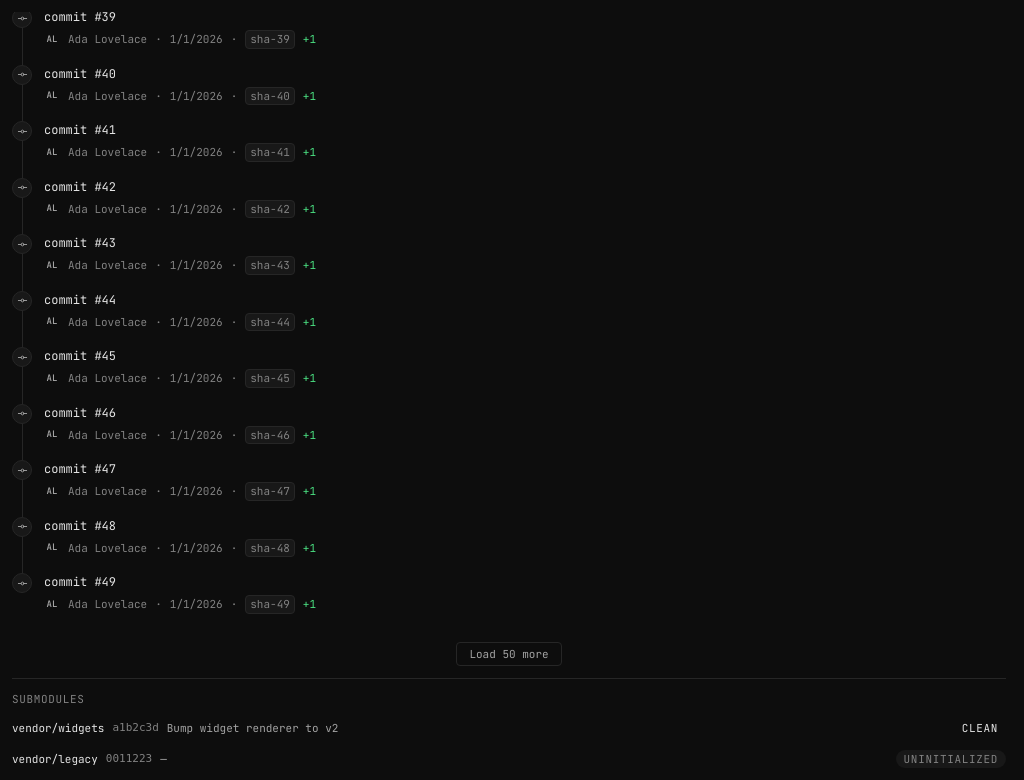
VcsPanel › Requirement 1f — Load more auto-turns the toggle OFF when the newly loaded page adds no own commits
This screenshot has width=1024, height=780.
Click the button "Load 50 more" at (509, 654), box [456,642,562,666]
(page scrolled)
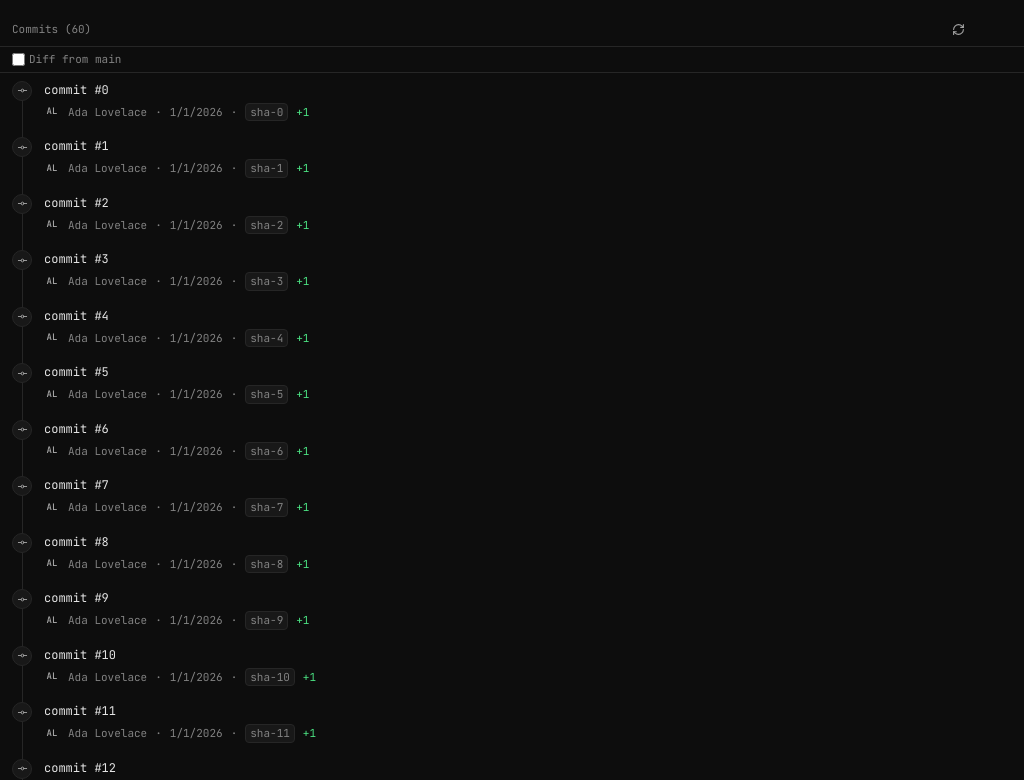
Check: the checkbox labelled "Diff from main" is not checked, box [12,53,25,66]
Check: the text "Commits (60)" is shown, box [12,21,91,37]
